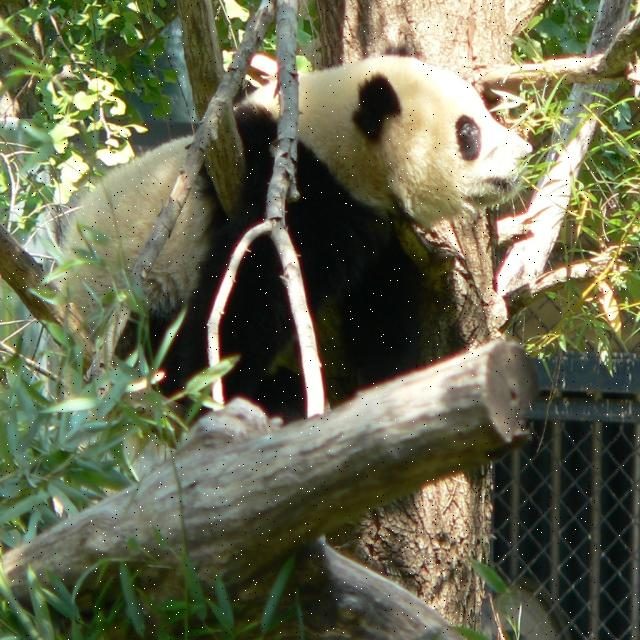panda: (51, 49, 532, 493)
